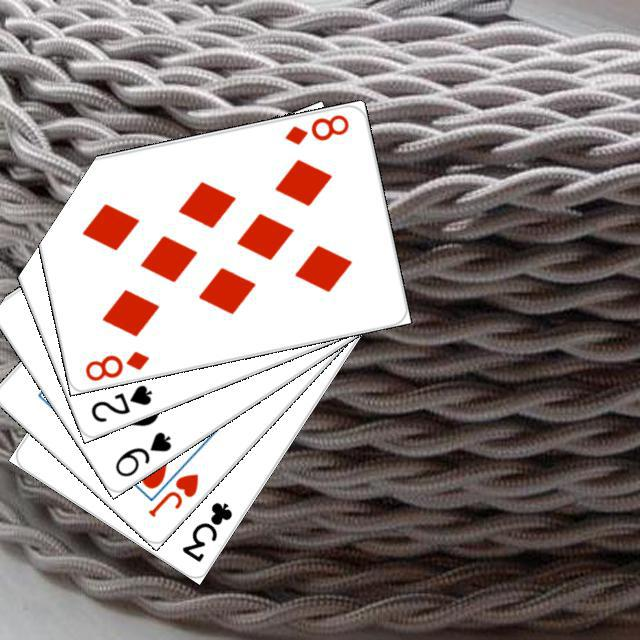2s: (85, 379, 154, 424)
3c: (177, 497, 234, 564)
8d: (280, 109, 351, 147), (80, 346, 151, 383)
9s: (109, 426, 173, 479)
Jh: (143, 468, 201, 519)
